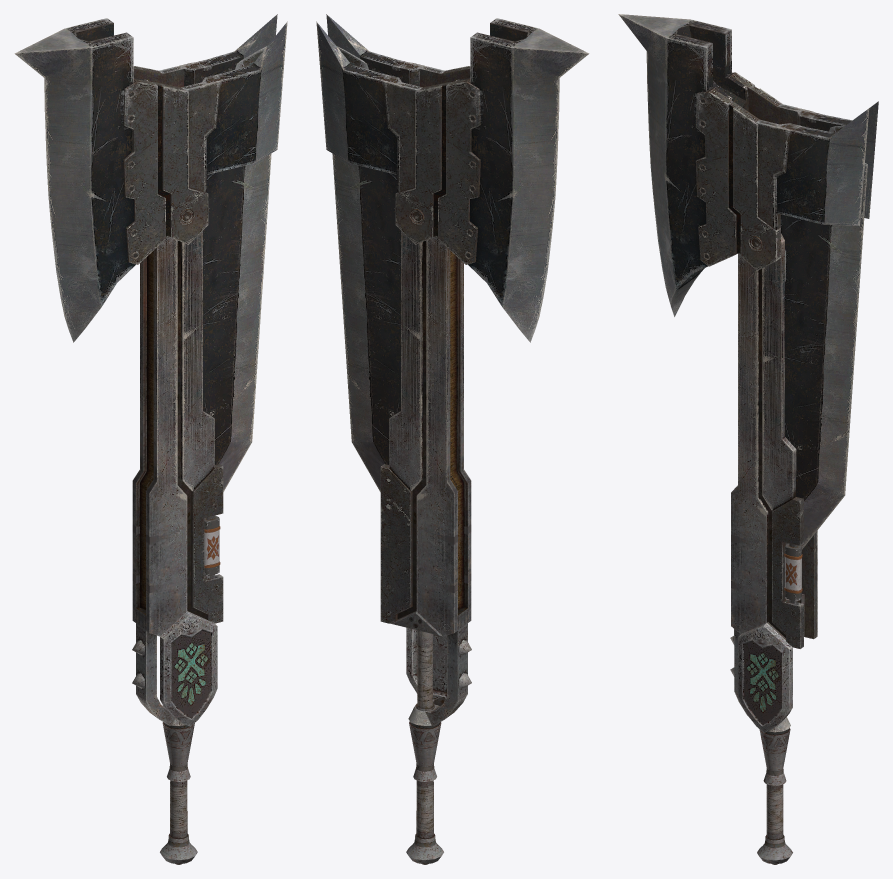
The model's file is bs_saxe001.obj.
The picture shows the model from 3 angles, left to right: view 1: azimuth 30°, elevation 25°; view 2: azimuth 150°, elevation 25°; view 3: azimuth 330°, elevation 25°; orthographic projection. The views are drawn at different scales.
Parts seen in each view (by area): view 1: bs_saxe001_000_LOD_1, bs_saxe001_004_LOD_1, bs_saxe001_003_LOD_1, bs_saxe001_002_LOD_1, bs_saxe001_001_LOD_1; view 2: bs_saxe001_004_LOD_1, bs_saxe001_000_LOD_1, bs_saxe001_003_LOD_1, bs_saxe001_002_LOD_1, bs_saxe001_001_LOD_1; view 3: bs_saxe001_004_LOD_1, bs_saxe001_000_LOD_1, bs_saxe001_003_LOD_1, bs_saxe001_002_LOD_1, bs_saxe001_001_LOD_1.
Boxes of the visible parts, x1=… form: bs_saxe001_000_LOD_1: x1=132, y1=231, x2=223, y2=726; bs_saxe001_004_LOD_1: x1=14, y1=14, x2=287, y2=342; bs_saxe001_003_LOD_1: x1=203, y1=46, x2=271, y2=491; bs_saxe001_002_LOD_1: x1=123, y1=66, x2=208, y2=264; bs_saxe001_001_LOD_1: x1=160, y1=722, x2=197, y2=864; bs_saxe001_004_LOD_1: x1=316, y1=14, x2=589, y2=342; bs_saxe001_000_LOD_1: x1=380, y1=231, x2=471, y2=725; bs_saxe001_003_LOD_1: x1=332, y1=46, x2=400, y2=491; bs_saxe001_002_LOD_1: x1=395, y1=66, x2=480, y2=264; bs_saxe001_001_LOD_1: x1=406, y1=630, x2=443, y2=864; bs_saxe001_004_LOD_1: x1=618, y1=14, x2=878, y2=316; bs_saxe001_000_LOD_1: x1=730, y1=233, x2=817, y2=732; bs_saxe001_003_LOD_1: x1=780, y1=125, x2=867, y2=549; bs_saxe001_002_LOD_1: x1=695, y1=72, x2=782, y2=270; bs_saxe001_001_LOD_1: x1=757, y1=728, x2=792, y2=864.
Bounding box in the file's own units: 97.23 × 295 × 17.87.
